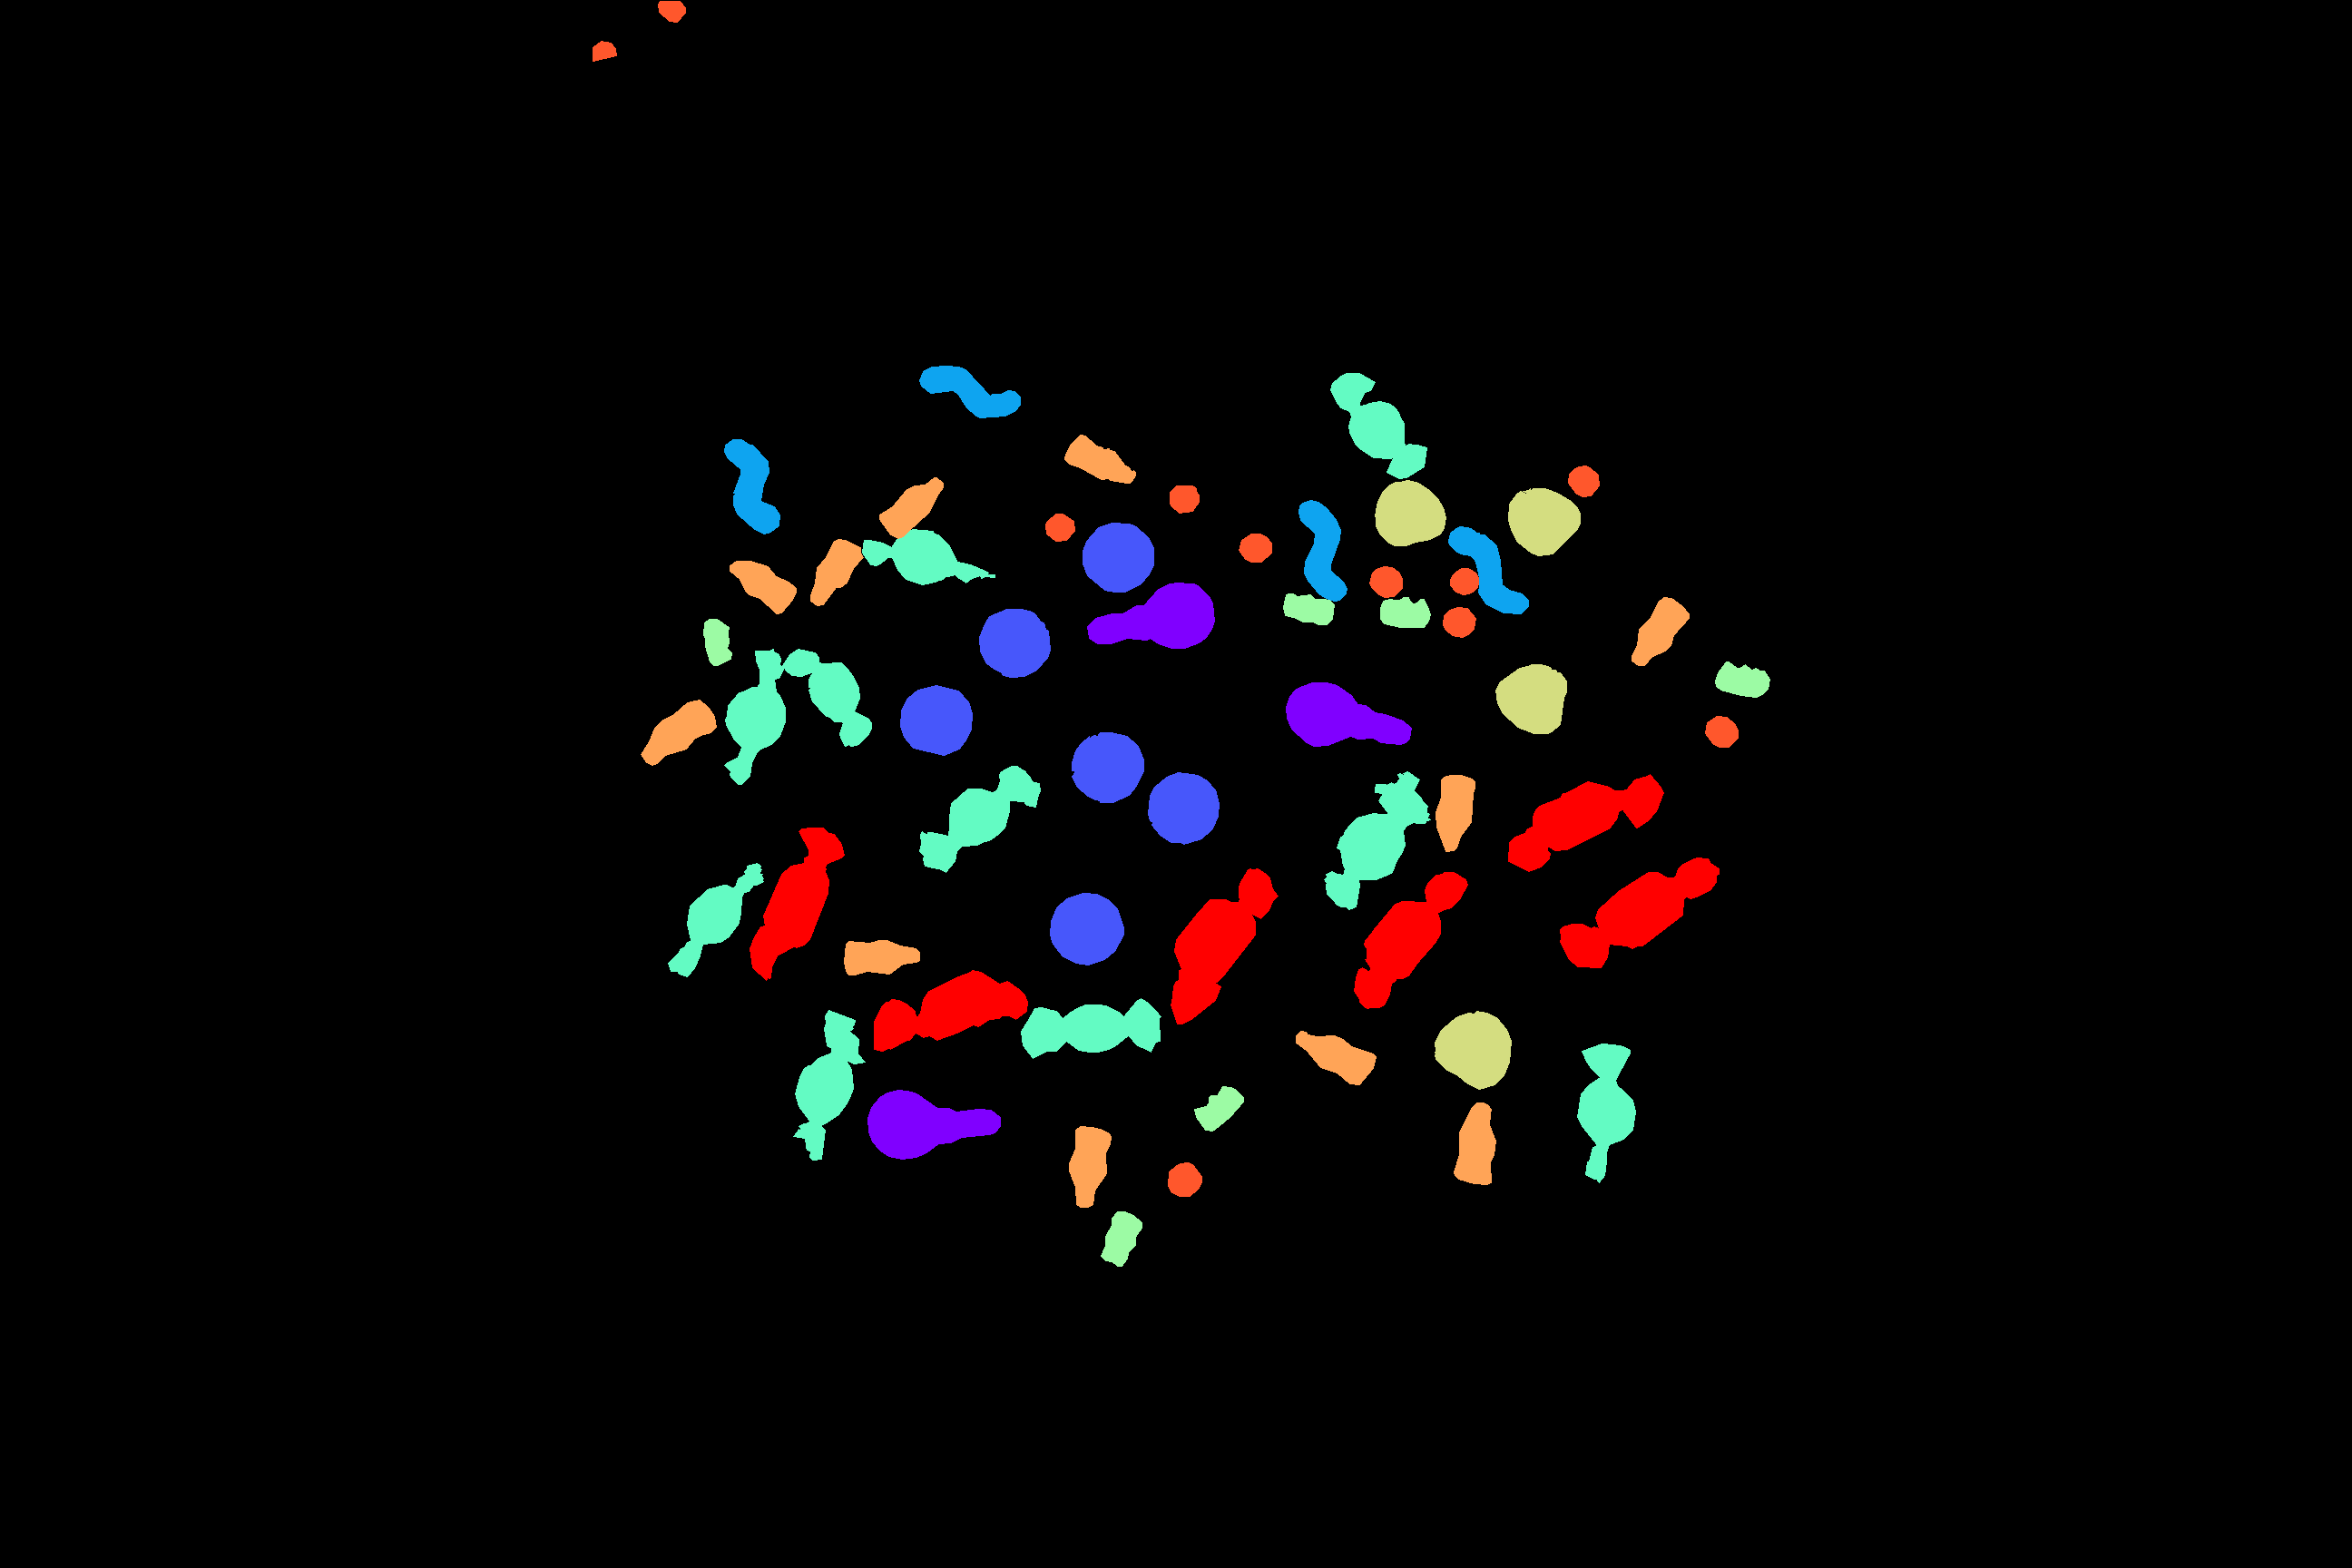apricot_jellies: (1435, 1012, 1510, 1089), (1496, 665, 1566, 733), (1509, 488, 1580, 555), (1375, 480, 1445, 546)
bear: (1101, 1211, 1141, 1265), (1193, 1087, 1242, 1130), (1715, 661, 1769, 696), (1283, 593, 1334, 625), (1381, 597, 1430, 626), (704, 620, 731, 665)
coin_candy: (1050, 892, 1123, 964), (900, 684, 971, 754), (1148, 772, 1218, 843), (1071, 731, 1143, 802), (978, 609, 1050, 677), (1083, 523, 1153, 591)
cola bottle candies: (640, 700, 716, 765), (1295, 1031, 1375, 1085), (1631, 597, 1689, 665), (878, 478, 943, 537), (730, 560, 796, 614), (1064, 434, 1136, 483), (810, 539, 863, 606), (1454, 1102, 1496, 1185), (1069, 1125, 1111, 1207), (1435, 775, 1475, 851), (843, 940, 919, 975)
dummies: (868, 1090, 999, 1158), (1087, 583, 1215, 647), (1286, 682, 1411, 745)
riesen: (1559, 857, 1718, 968), (1171, 868, 1277, 1024), (1354, 871, 1466, 1008), (1509, 773, 1662, 871), (749, 828, 843, 980), (873, 970, 1027, 1050)
skittles: (1167, 1162, 1202, 1195), (1705, 716, 1738, 747), (1568, 465, 1600, 497), (1368, 567, 1402, 597), (1442, 607, 1475, 637), (1239, 534, 1270, 562), (1045, 513, 1074, 541), (1169, 485, 1199, 513), (1451, 569, 1479, 595), (658, 2, 684, 21), (593, 40, 616, 61)
sourworms: (1449, 527, 1528, 614), (919, 366, 1020, 418), (724, 439, 779, 534), (1298, 500, 1346, 600)
vollmilch_brocken: (1325, 772, 1430, 910), (919, 767, 1040, 871), (793, 1010, 865, 1160), (669, 863, 763, 976), (1330, 373, 1426, 478), (782, 649, 871, 745), (1020, 997, 1160, 1059), (724, 649, 786, 784), (1577, 1043, 1634, 1183), (863, 528, 994, 584)
